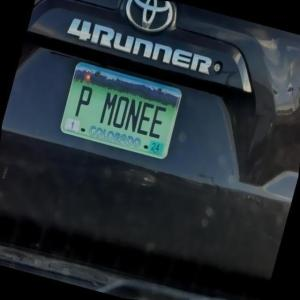Plate: (57, 60, 184, 162)
